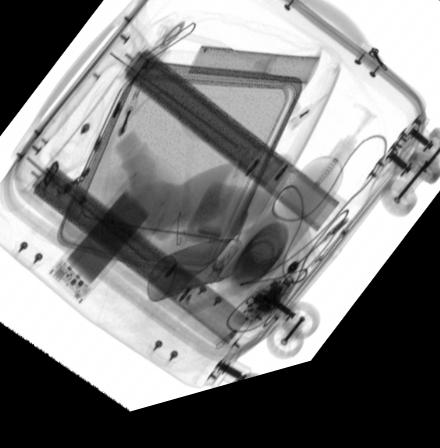Powerbank: (47, 178, 164, 311)
